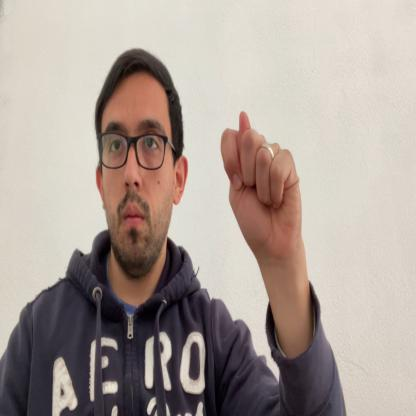T: (221, 109, 302, 251)
